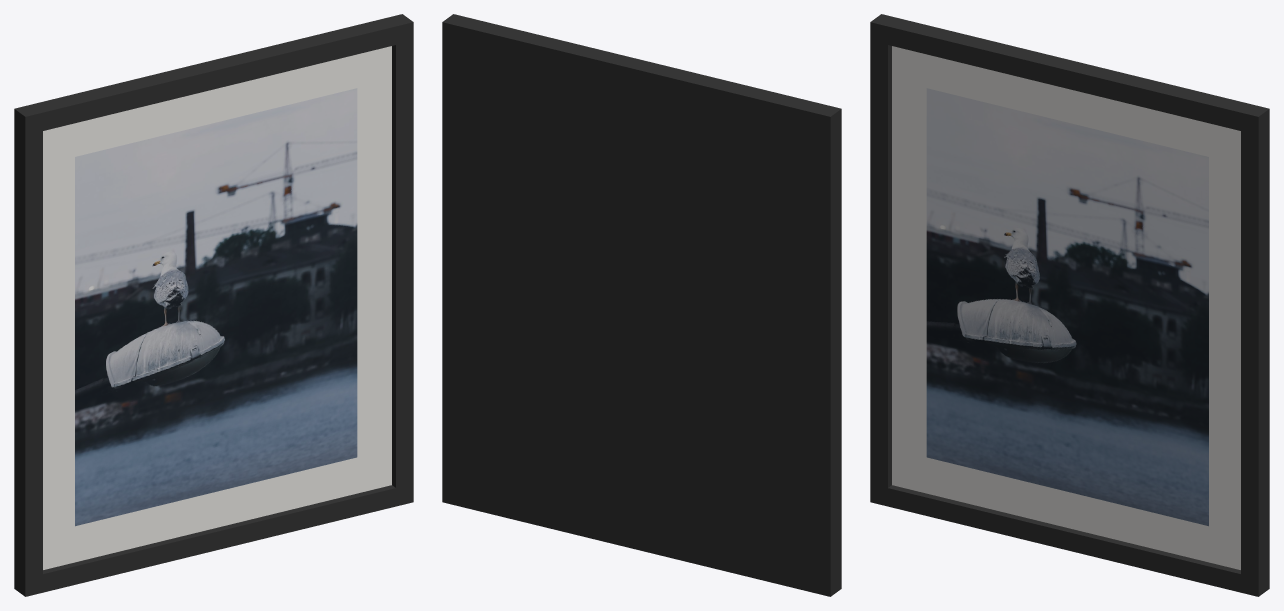
Rendered from masen-40.gltf.
3 renders of one model, left to right at view 1: azimuth 30°, elevation 25°; view 2: azimuth 150°, elevation 25°; view 3: azimuth 330°, elevation 25°, orthographic.
Visible parts, largest first — view 1: tavla; view 2: tavla; view 3: tavla.
Boxes of the visible parts, left/top/right/bottom form: tavla: left=14, top=14, right=413, bottom=596; tavla: left=442, top=14, right=841, bottom=596; tavla: left=870, top=14, right=1269, bottom=596.
Size of the model in its own units: 0.4401 by 0.52 by 0.022.
3 materials, 1 textured.
